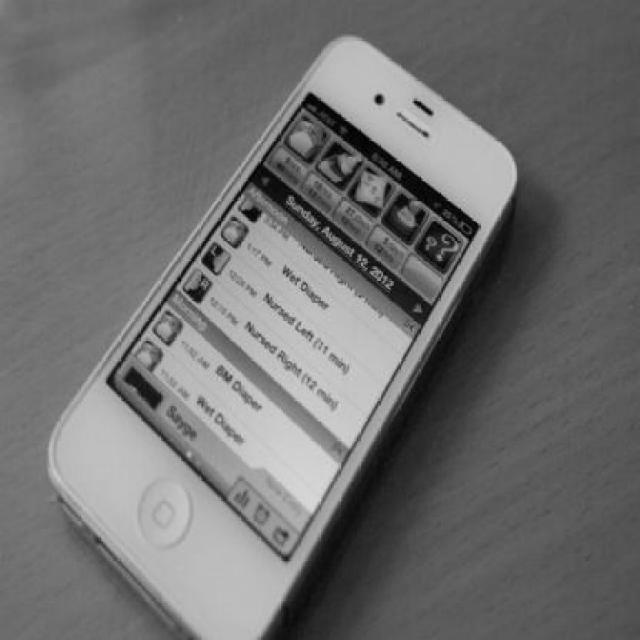fake: (37, 38, 526, 634)
